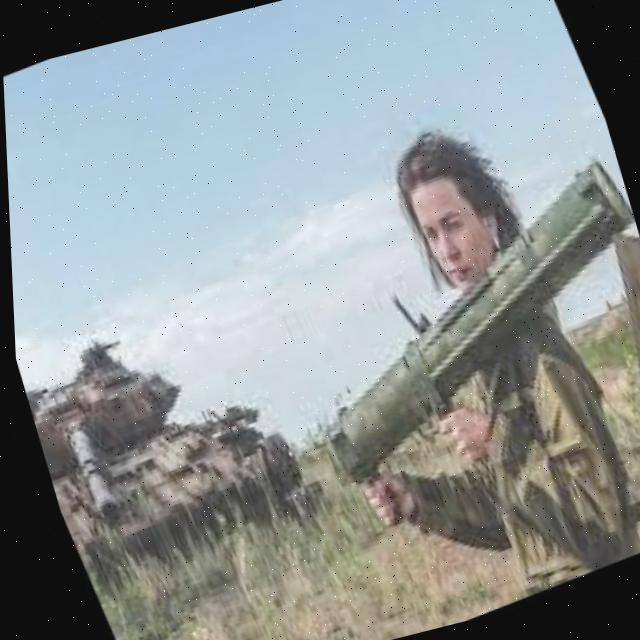rocket: (238, 146, 640, 497)
